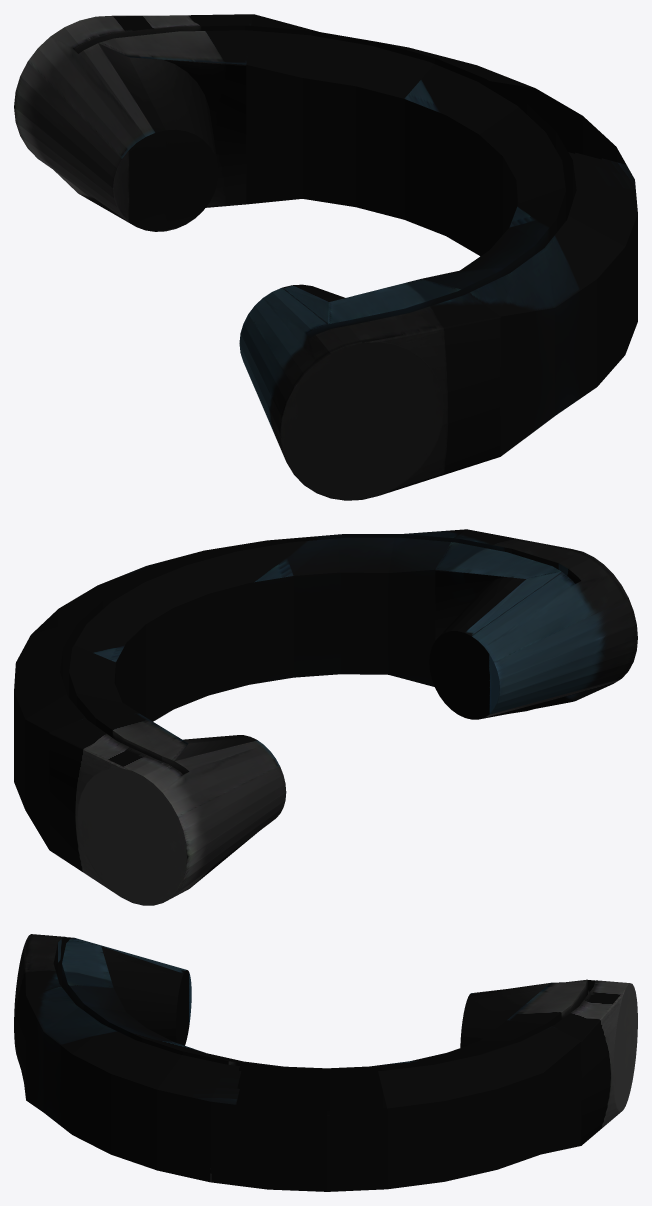
File: catchBall.obj
The picture shows the model from 3 angles, top to bottom: view 1: azimuth 30°, elevation 25°; view 2: azimuth 150°, elevation 25°; view 3: azimuth 270°, elevation 25°; orthographic projection. The views are drawn at different scales.
Parts seen in each view (by area): view 1: Cylinder; view 2: Cylinder; view 3: Cylinder.
Boxes of the visible parts, <box> form: Cylinder: <box>14,14,637,500</box>; Cylinder: <box>14,529,637,905</box>; Cylinder: <box>14,934,637,1191</box>.
Size of the model in its own units: 2.16 by 0.6599 by 3.16.
1 material, 1 textured.
